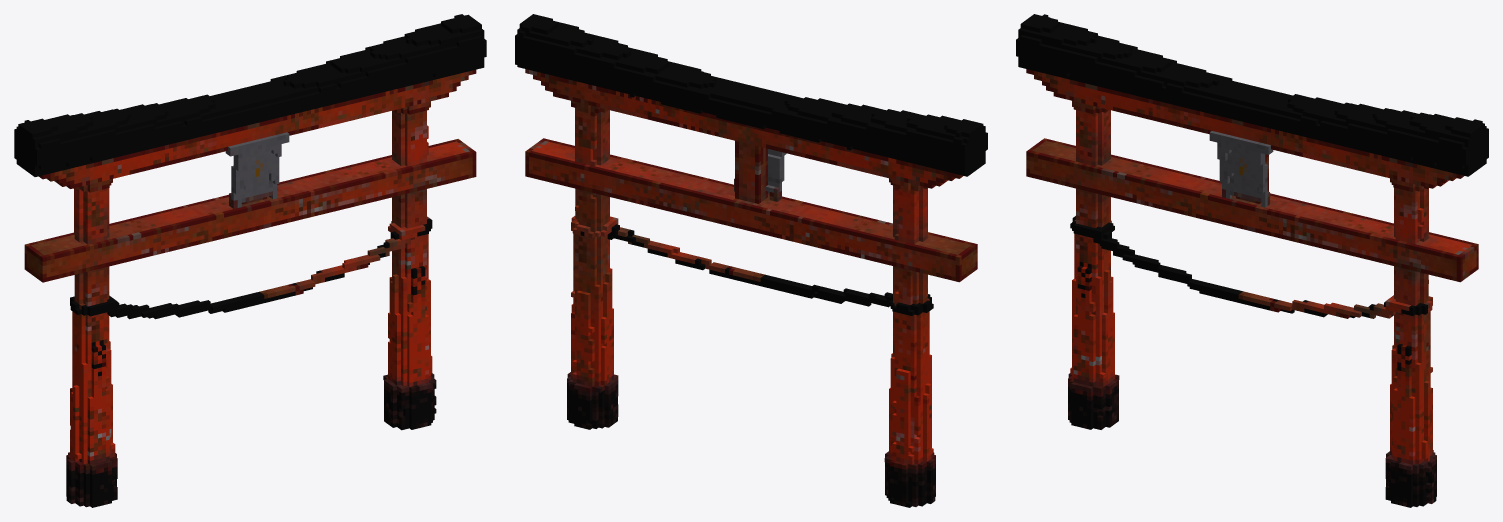
Rendered from Tori.obj.
3 views of the same model, side by side, from view 1: azimuth 30°, elevation 25°; view 2: azimuth 150°, elevation 25°; view 3: azimuth 330°, elevation 25° (orthographic).
Parts seen in each view (by area): view 1: ToriTexture; view 2: ToriTexture; view 3: ToriTexture.
Boxes of the visible parts, x1,y1,x2,y2 form: ToriTexture: (14,14,486,507); ToriTexture: (515,14,987,507); ToriTexture: (1016,14,1488,507).
Bounding box in the file's own units: 16.92 × 13.8 × 1.63.
